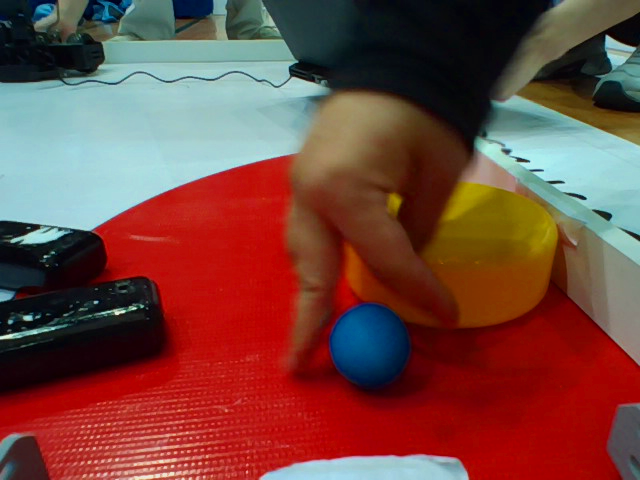black: (1, 274, 170, 402), (1, 197, 116, 282)
blue: (313, 307, 413, 399)
yellow: (331, 175, 573, 313)
